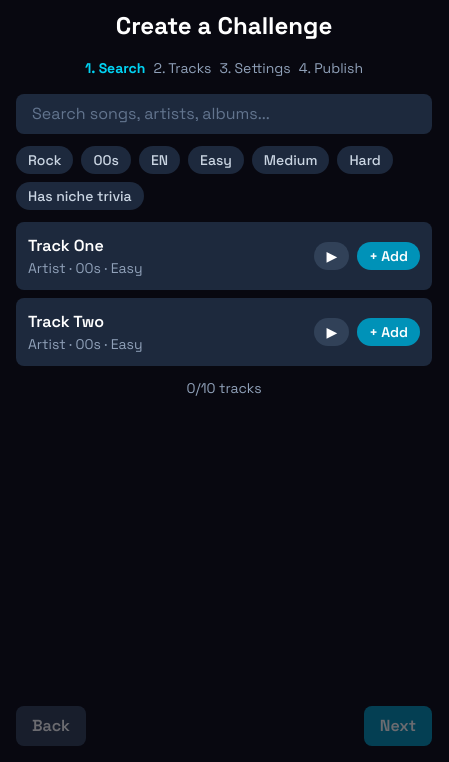
it: ChallengeCreateScreen › disables Next on step 1 until a track is added
The width and height of the screenshot is (449, 762).
Expected: the button "Next" is disabled, [364,706,432,746]
Click the button with test id "add-t1" at (389, 256), box [357,242,420,270]
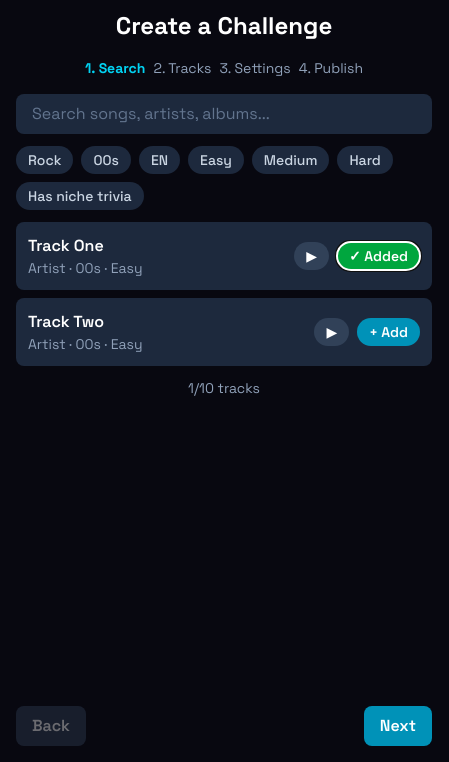
Expected: the button "Next" is enabled, [364,706,432,746]
